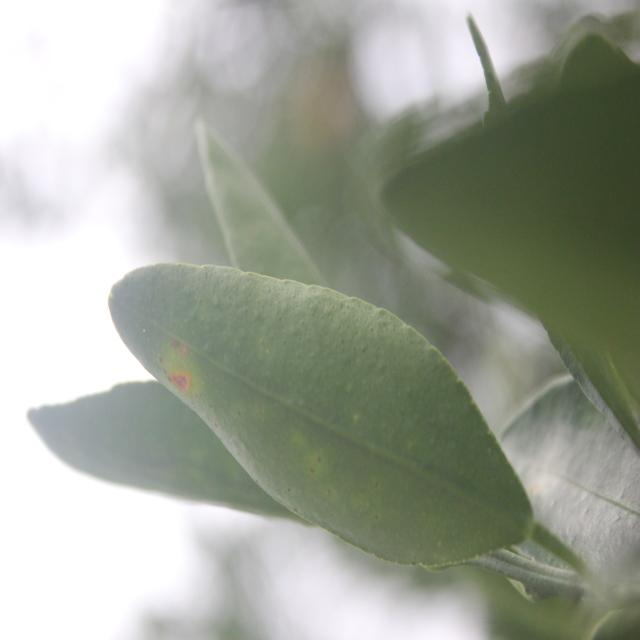canker: (140, 289, 332, 487)
